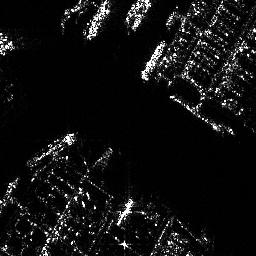ship: (26, 131, 76, 167), (142, 39, 168, 81), (87, 2, 112, 41), (130, 1, 152, 31), (116, 200, 133, 224)
